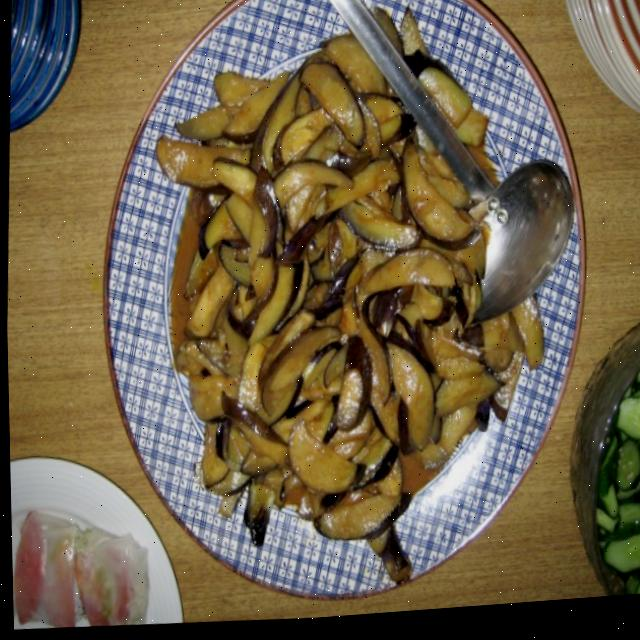鸡蛋料理: (96, 0, 590, 609)
